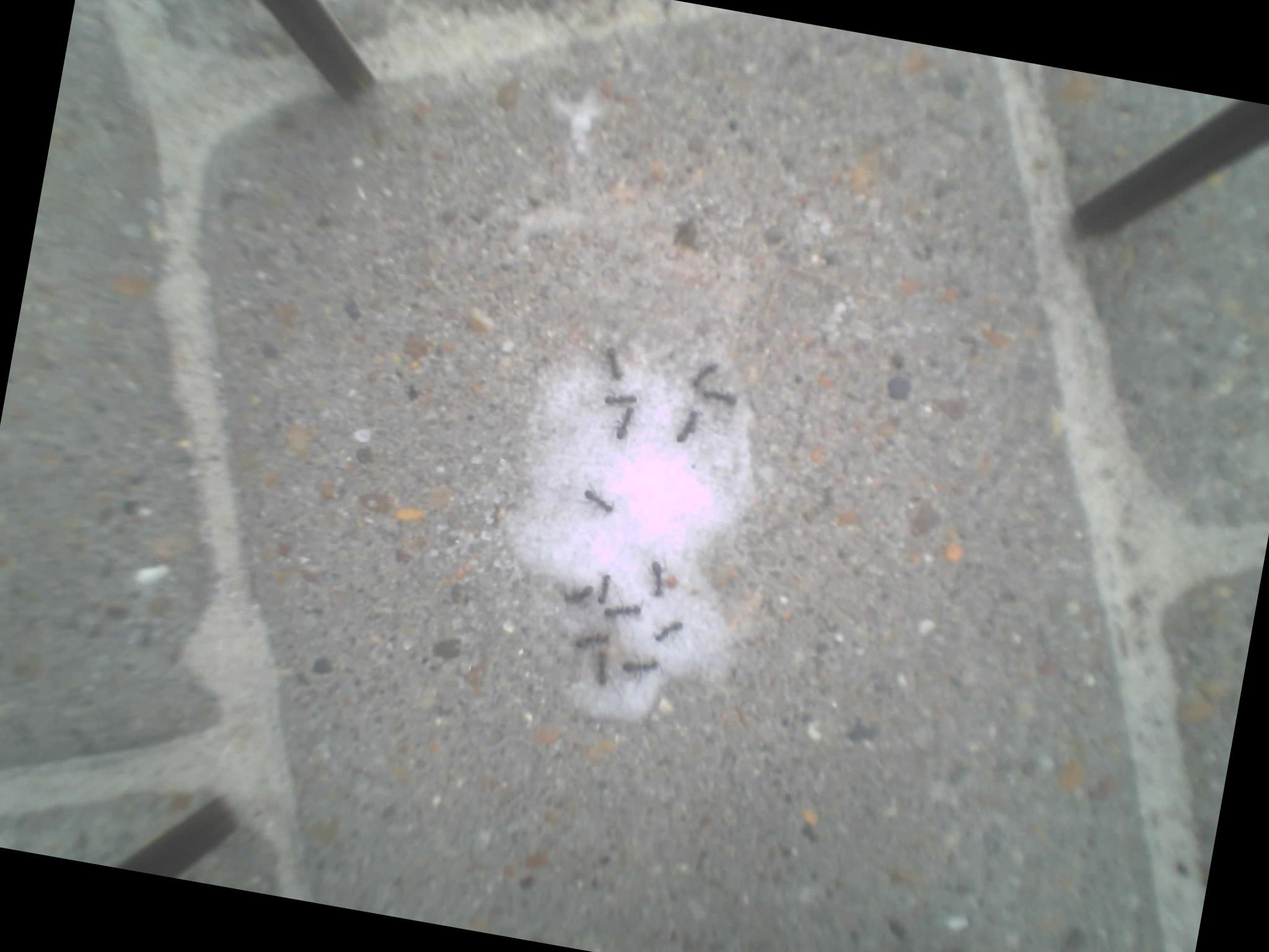Ant: (675, 407, 700, 445), (602, 599, 641, 623), (652, 616, 683, 646), (690, 359, 718, 392), (621, 654, 659, 678), (573, 629, 609, 654), (601, 346, 626, 381), (581, 488, 615, 513), (645, 561, 668, 597), (562, 582, 593, 608), (613, 403, 634, 441), (591, 648, 611, 687), (698, 388, 738, 407), (603, 390, 637, 409), (595, 573, 610, 605)
